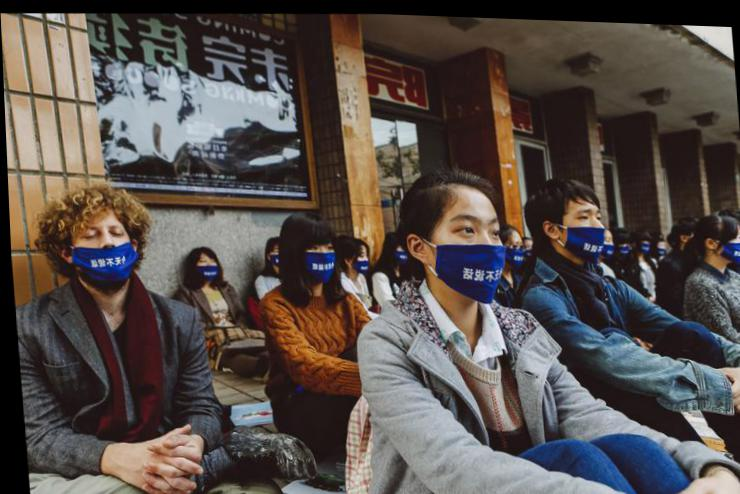OK: (420, 207, 507, 294), (292, 234, 337, 279), (496, 230, 525, 268), (714, 224, 740, 261), (194, 254, 217, 280), (392, 237, 409, 263), (267, 241, 283, 265), (636, 233, 651, 248), (618, 236, 631, 253), (654, 238, 665, 253)
WRONG: (68, 214, 136, 282), (555, 200, 611, 256), (347, 245, 371, 272)
